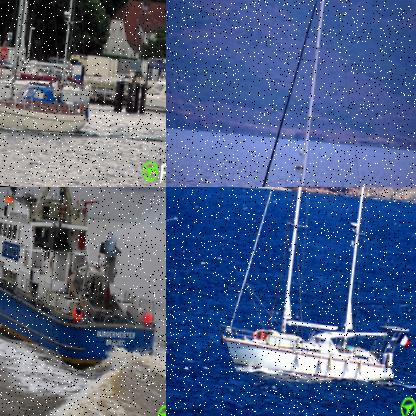Patrol Boat: (0, 187, 165, 378)
Sails Boat: (214, 187, 415, 387), (222, 0, 415, 186), (0, 0, 116, 138)
